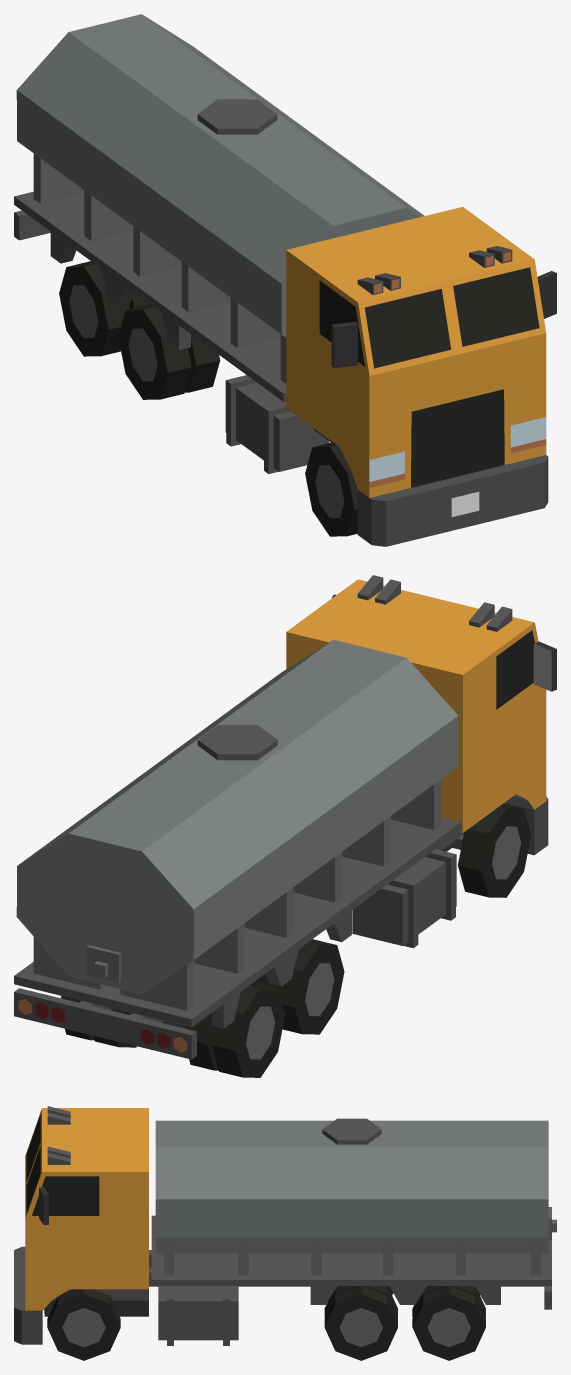
The model's file is Veh_Truck_03_Tank_Yellow.glb.
The picture shows the model from 3 angles, top to bottom: view 1: azimuth 30°, elevation 25°; view 2: azimuth 150°, elevation 25°; view 3: azimuth 270°, elevation 25°; orthographic projection. The views are drawn at different scales.
Visible parts, largest first — view 1: Truck_03_Yellow, Wheel_RR1, Wheel_RR2, Wheel_FR; view 2: Truck_03_Yellow, Wheel_RR2, Wheel_FR, Wheel_RR1; view 3: Truck_03_Yellow, Wheel_RL1, Wheel_RL2, Wheel_FL.
Part boxes in pixels (x1,y1,x2,y2): Truck_03_Yellow: [14, 14, 556, 546]; Wheel_RR1: [118, 304, 220, 399]; Wheel_RR2: [59, 261, 149, 356]; Wheel_FR: [305, 442, 357, 536]; Truck_03_Yellow: [14, 575, 556, 1059]; Wheel_RR2: [185, 982, 285, 1077]; Wheel_FR: [458, 803, 531, 897]; Wheel_RR1: [253, 939, 344, 1034]; Truck_03_Yellow: [14, 1106, 556, 1345]; Wheel_RL1: [324, 1286, 397, 1360]; Wheel_RL2: [412, 1286, 485, 1360]; Wheel_FL: [47, 1289, 120, 1360].
Size of the model in its own units: 1.68 by 1.94 by 4.78.
Materials: 1 (1 with a texture image).
